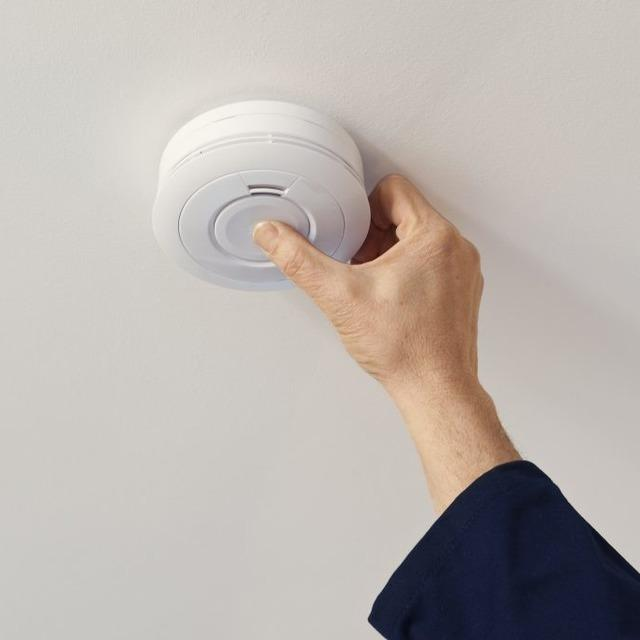Smoke-Detector: (150, 95, 372, 228)
